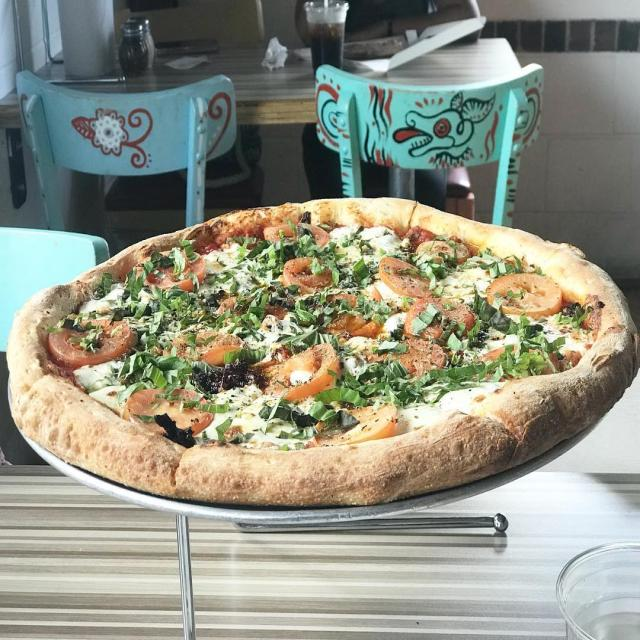pizza: (5, 193, 640, 510)
tomatoes: (126, 386, 216, 438), (46, 315, 132, 365), (266, 342, 341, 398), (312, 402, 399, 448), (367, 339, 445, 386), (485, 274, 565, 318), (404, 295, 474, 343), (165, 330, 246, 368), (132, 249, 206, 290), (326, 288, 385, 338), (378, 256, 436, 299), (480, 348, 560, 378), (281, 256, 335, 295), (263, 222, 330, 250), (221, 298, 287, 320), (330, 312, 382, 337), (416, 240, 470, 264)
